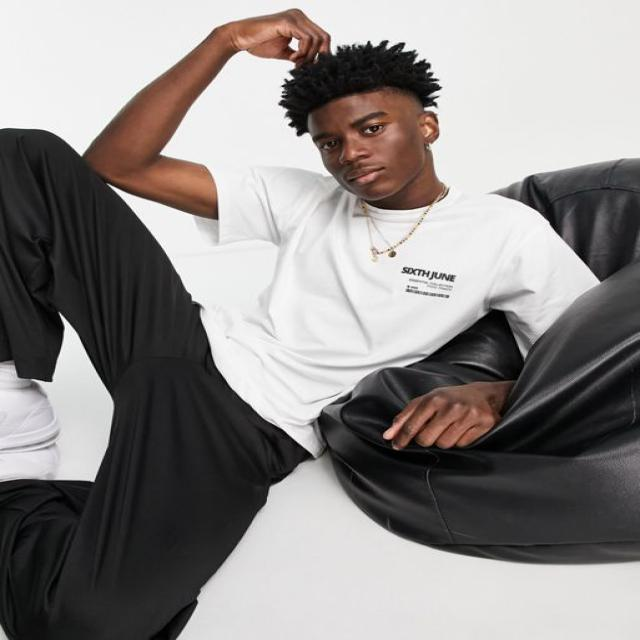tshirt: (188, 158, 600, 454)
